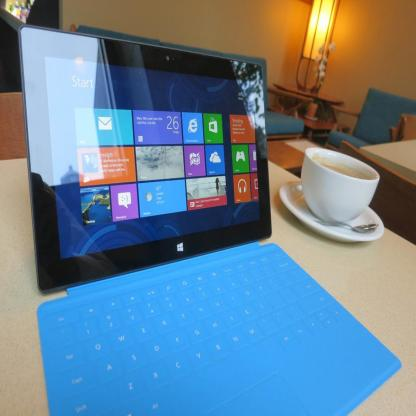board: (19, 27, 349, 413)
